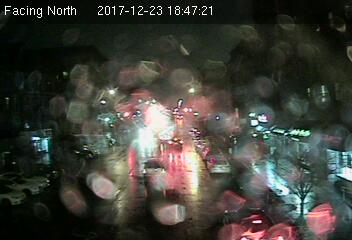car: (141, 158, 167, 180), (206, 154, 232, 175)
